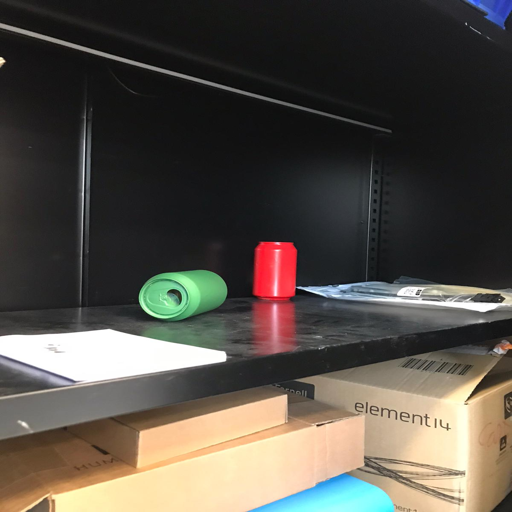Green_Can: (136, 266, 228, 321)
Red_Can: (249, 237, 298, 302)
